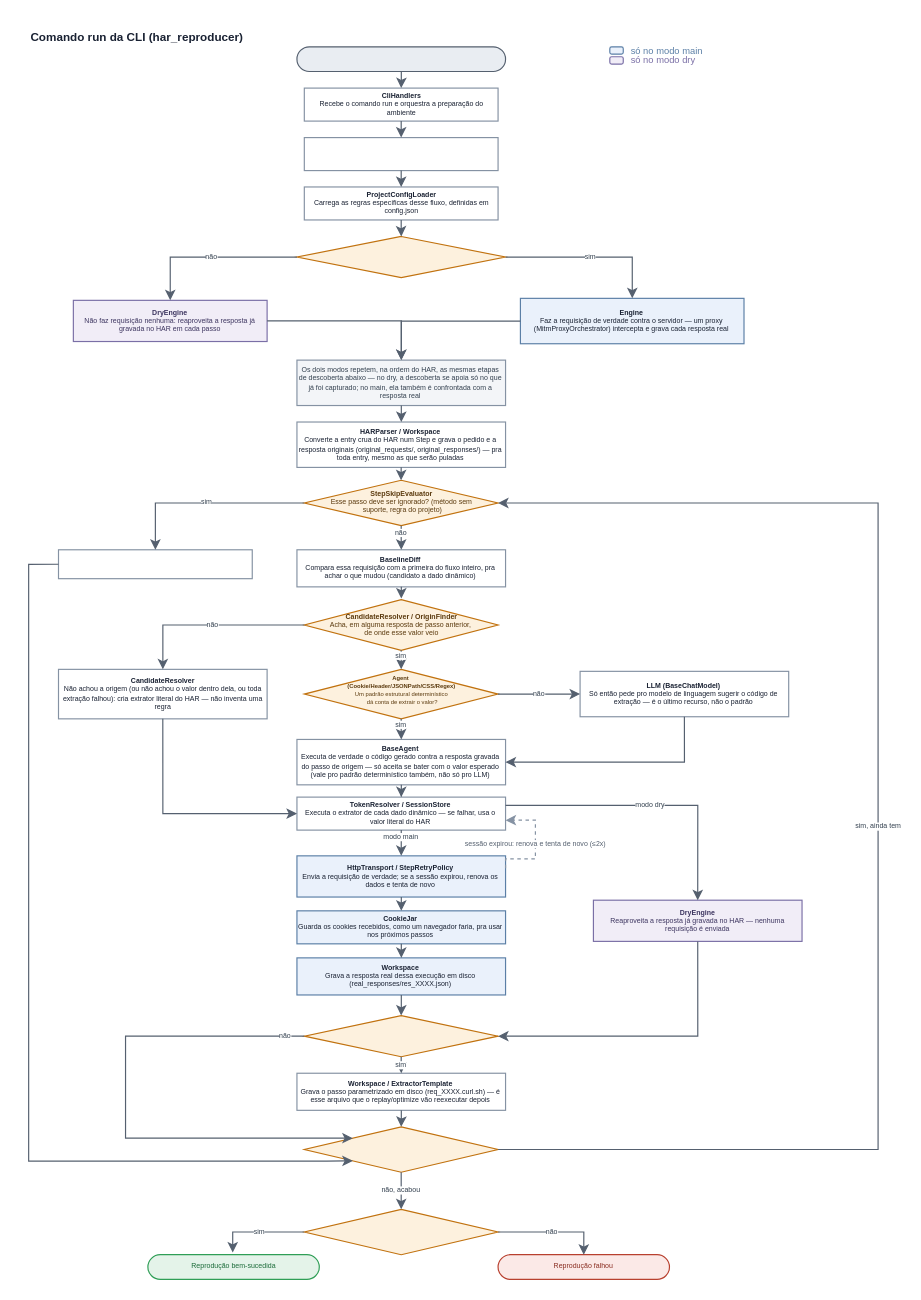
Image size: 921x1300. Some labels were removed from this diagram. Each missing label, with the box of its shape:
Ainda faltam passos desse fluxo?: (303, 1126, 498, 1172)
Essa requisição teve uma resposta válida (status ≠ 0)?: (303, 1014, 498, 1057)
Esse modo (--mode) precisa de rede real?: (296, 235, 506, 278)
Marca como pulado e segue pro próximo: (57, 549, 252, 579)
Usuário roda: har_reproducer run --har fluxo.har: (296, 46, 506, 71)
Validator O resultado final bate com o que esse fluxo deveria alcançar?: (303, 1208, 498, 1255)
Workspace Cria a estrutura de pastas onde os resultados desse fluxo vão ficar: (303, 136, 498, 171)
